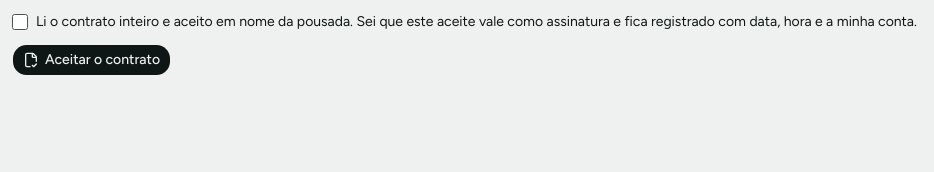
Scenario: ContractAcceptForm › sem marcar "li e aceito" não envia nada
The image size is (934, 172).
Click the button "Aceitar o contrato" at coordinates (92, 60), box [12,44,171,76]
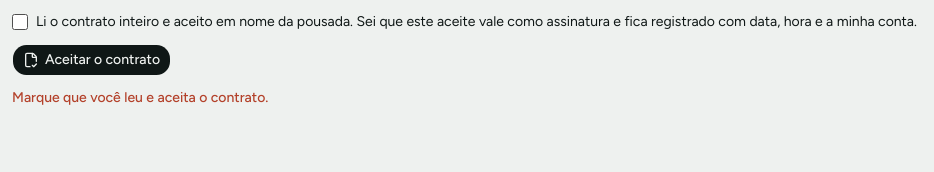
Result: the message reads "Marque que você leu e aceita o contrato." at [12,89,268,106]
